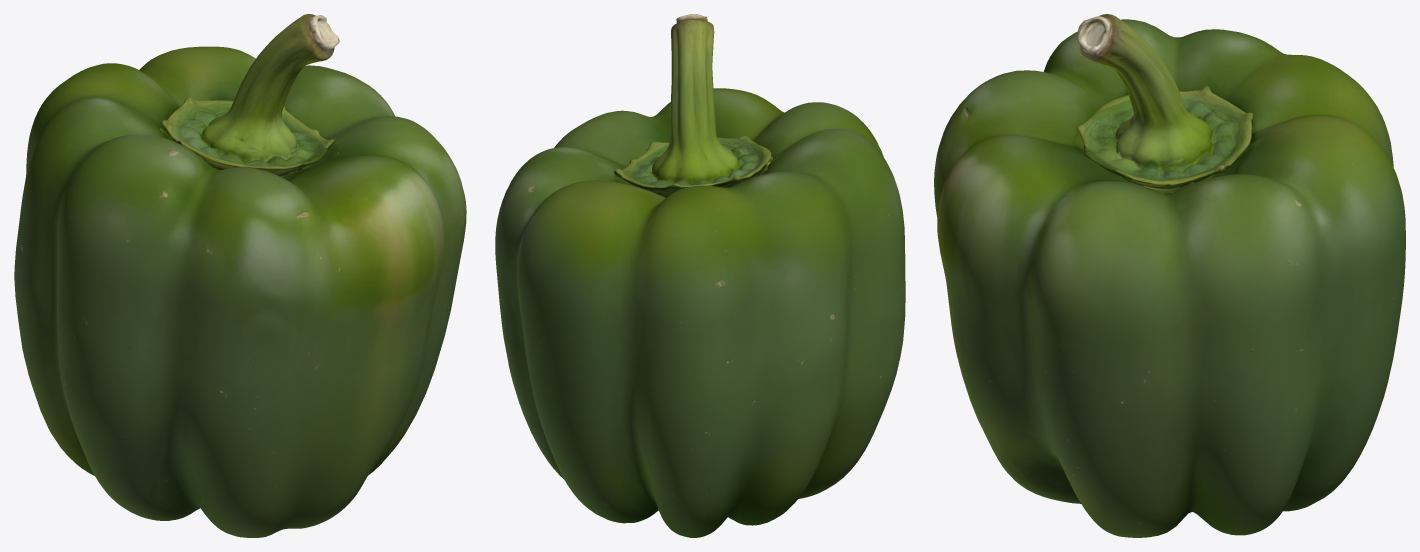
File: lettuce.glb
The picture shows the model from 3 angles, left to right: view 1: azimuth 30°, elevation 25°; view 2: azimuth 150°, elevation 25°; view 3: azimuth 270°, elevation 25°; orthographic projection. The views are drawn at different scales.
Parts seen in each view (by area): view 1: node_0; view 2: node_0; view 3: node_0.
Boxes of the visible parts, x1=… form: node_0: x1=14, y1=14, x2=466, y2=537; node_0: x1=495, y1=14, x2=905, y2=537; node_0: x1=934, y1=14, x2=1405, y2=537.
Bounding box in the file's own units: 0.8918 × 1.1 × 0.9308.
Materials: 1 (1 with a texture image).
